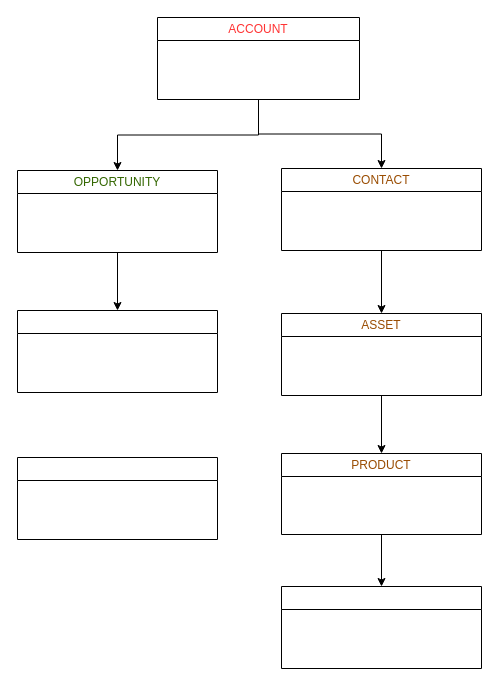
The diagram is 499 pixels wide and 686 high, and some of its shapes have lost their labels. Each missing label, with the centre of its shape:
CASE: (381,627)
LEAD: (117,498)
PRICEBOOK: (117,351)
